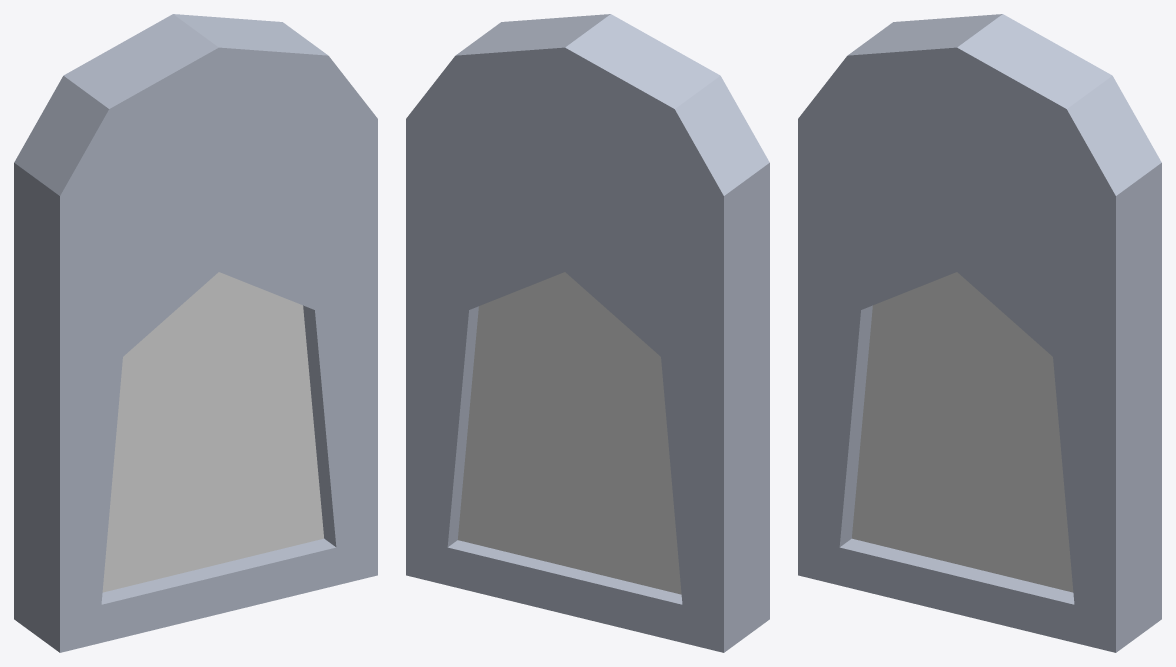
File: stage4_2_wall_ex.fbx
The picture shows the model from 3 angles, left to right: view 1: azimuth 30°, elevation 25°; view 2: azimuth 150°, elevation 25°; view 3: azimuth 330°, elevation 25°; orthographic projection.
Parts seen in each view (by area): view 1: mado_ex; view 2: mado_ex; view 3: mado_ex.
Part boxes in pixels (box(x1,y1,x2,y2)): mado_ex: box(14, 14, 377, 652); mado_ex: box(406, 14, 769, 652); mado_ex: box(798, 14, 1161, 652).
Bounding box in the file's own units: 800 × 1363 × 200.
